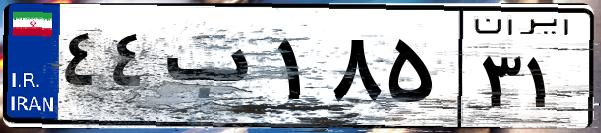1: (270, 28, 330, 110), (525, 38, 570, 115)
3: (475, 38, 525, 113)
4: (57, 26, 110, 100), (110, 28, 158, 98)
5: (385, 28, 445, 110)
8: (330, 28, 385, 110)
ب: (158, 20, 270, 120)
